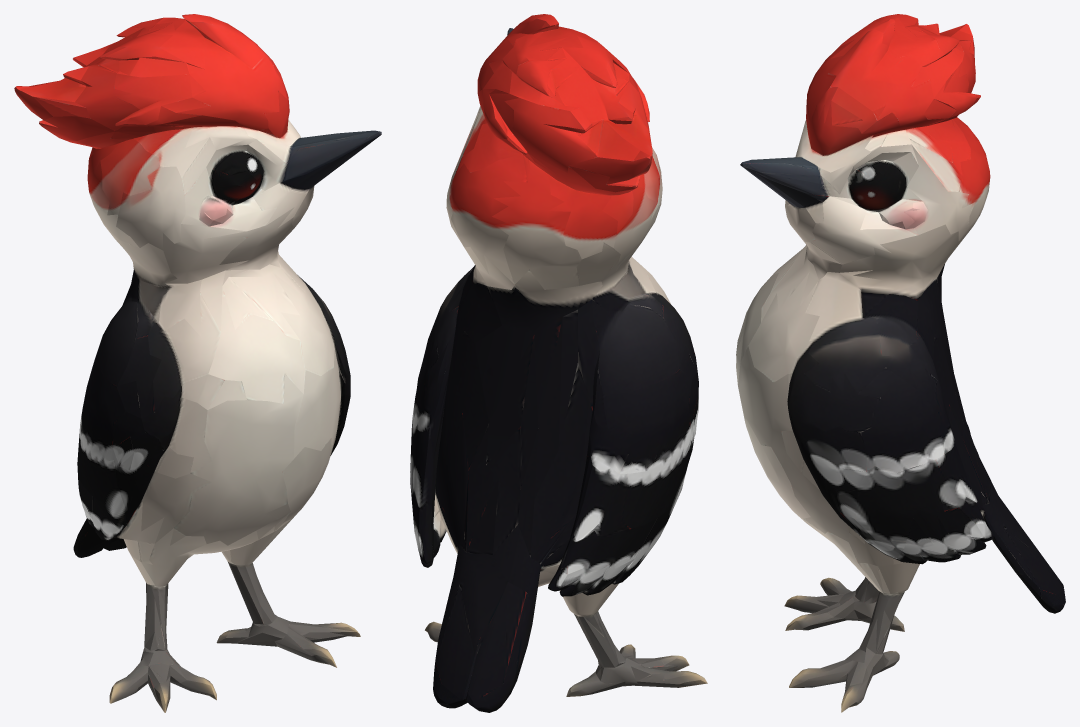
The model's file is woodpecker.glb.
The picture shows the model from 3 angles, left to right: view 1: azimuth 30°, elevation 25°; view 2: azimuth 150°, elevation 25°; view 3: azimuth 270°, elevation 25°; orthographic projection. The views are drawn at different scales.
Bounding box in the file's own units: 0.8732 × 1.9 × 0.9115.
Materials: 1 (1 with a texture image).
